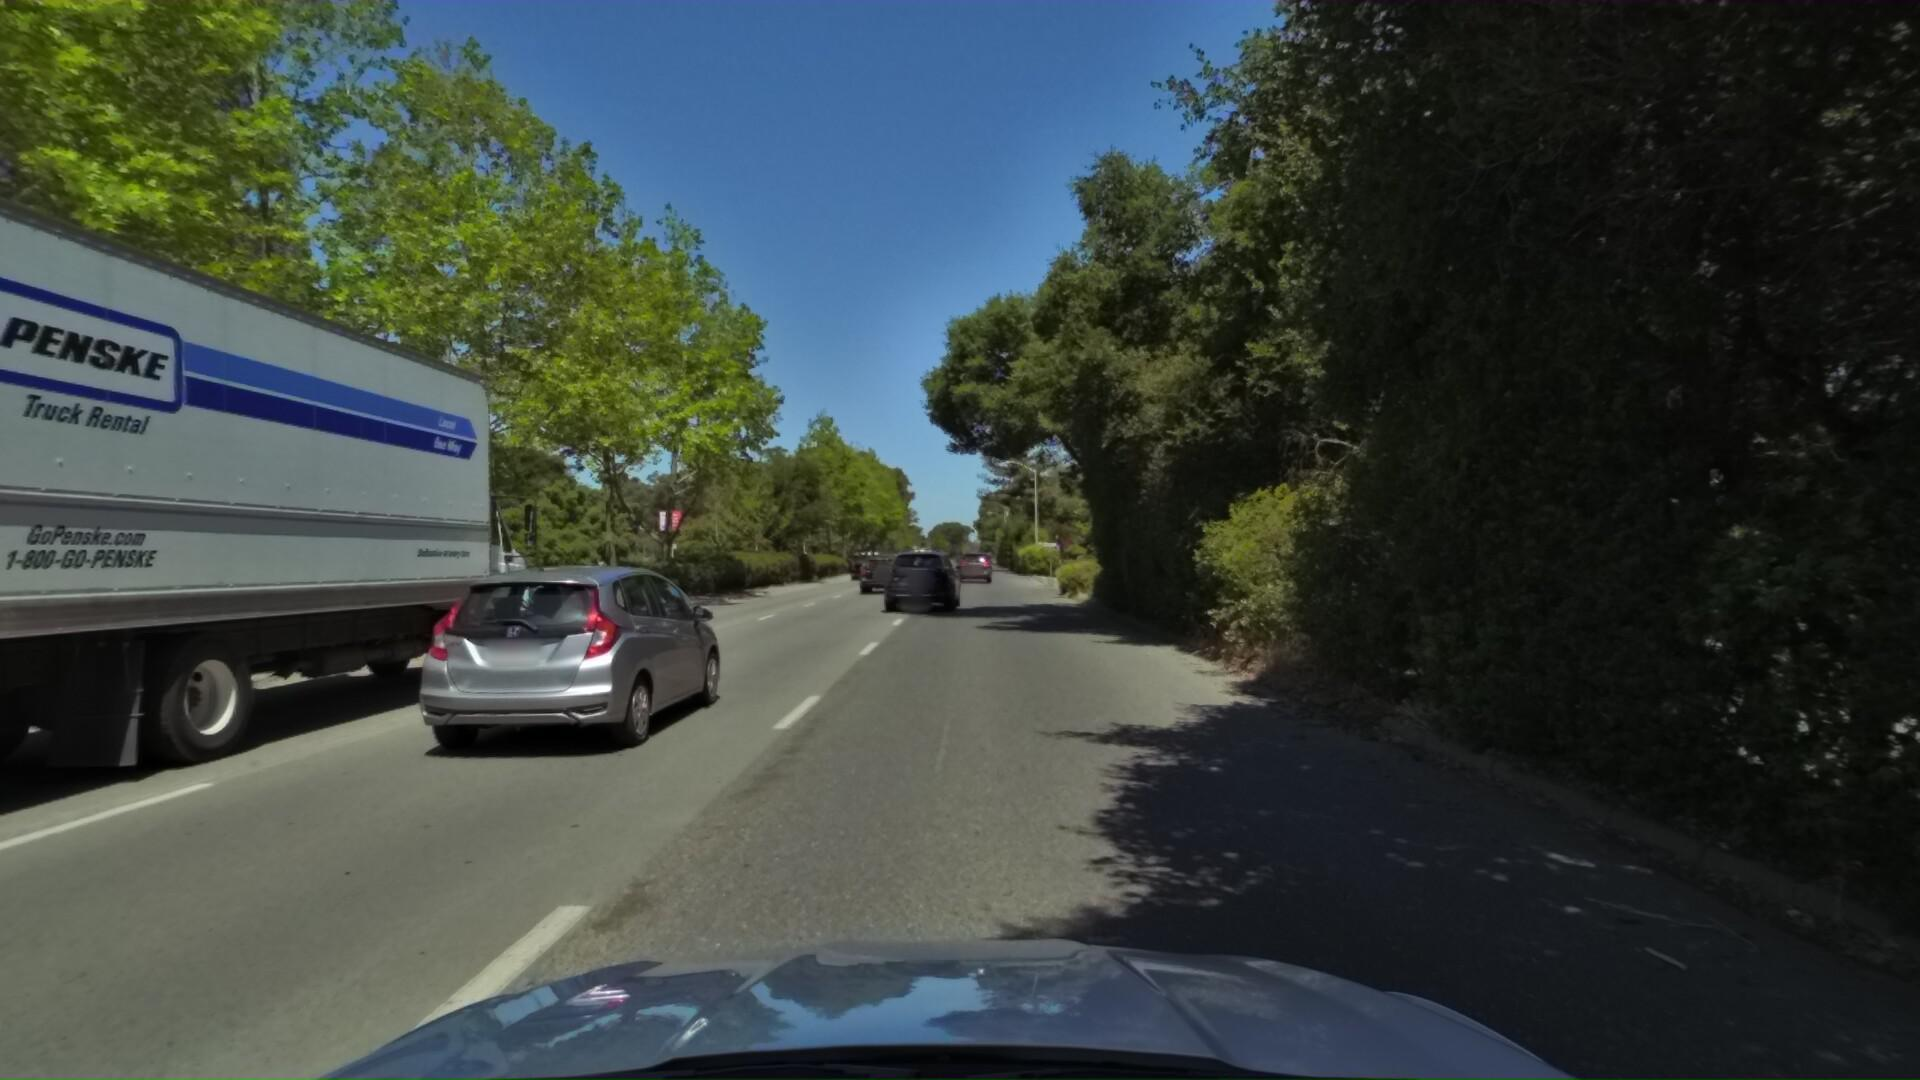car: (384, 560, 741, 771), (872, 541, 967, 616), (849, 550, 909, 597), (951, 549, 992, 582), (840, 553, 878, 579)
